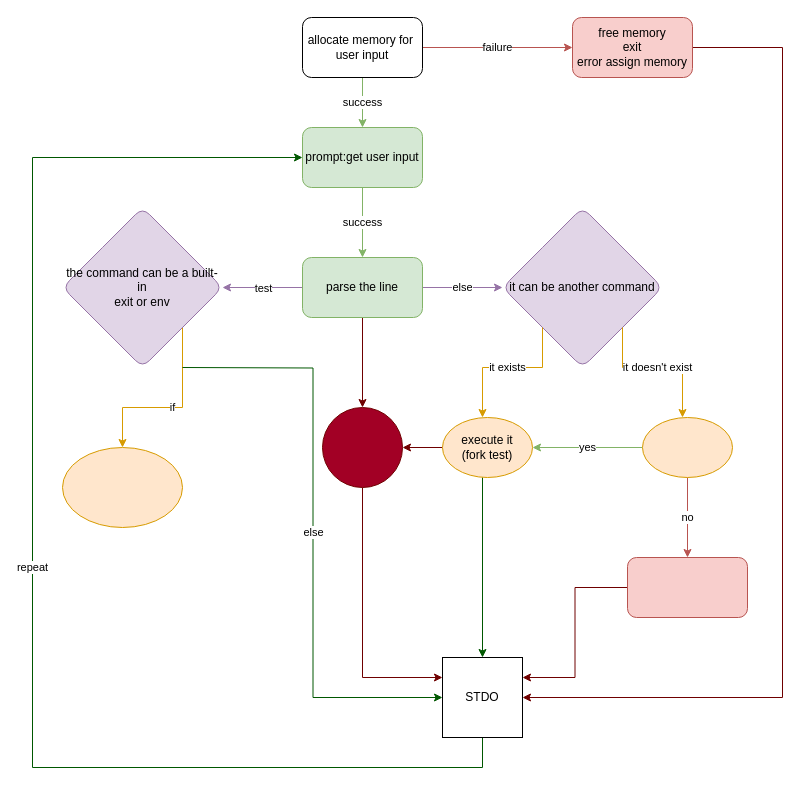
Some shapes in this 808 by 793 pixel diagram are drawn without their labels. Here are the shapes that lost their labels. From the top down, the centre of each, then its label:
At (362,447): "error".
At (687,447): "checkif it exists in PATH".
At (122,487): "exit : then exit program".
At (687,587): "free memory print error".
